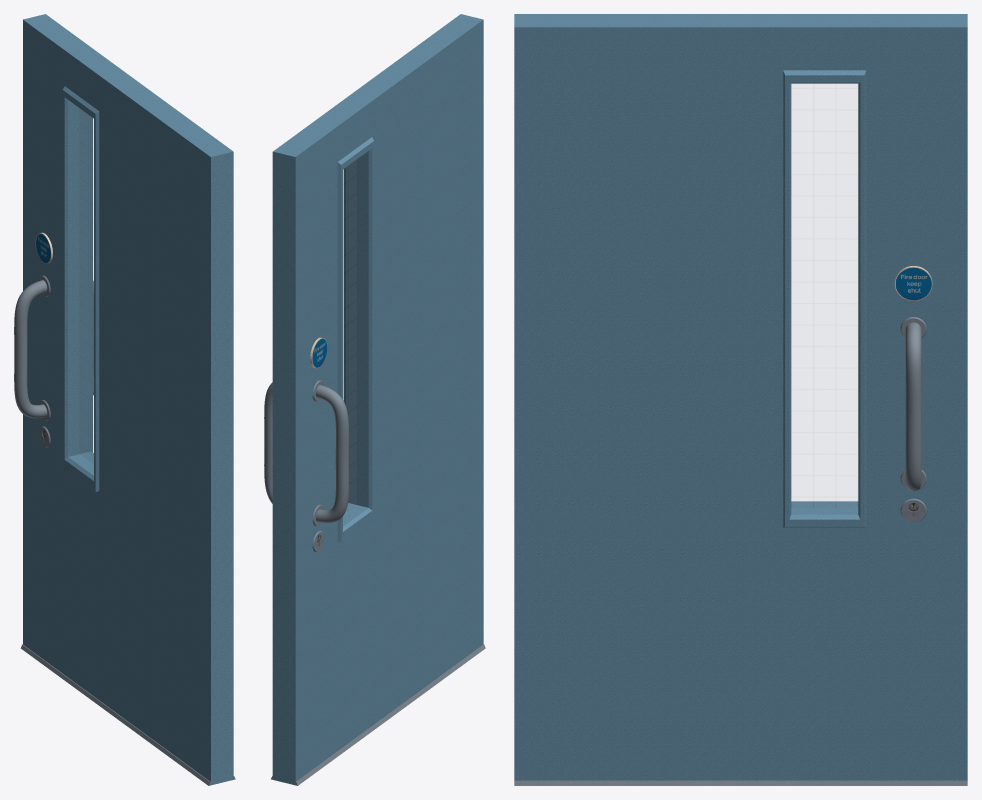
Rendered from Commerical Door.fbx.
3 views of the same model, side by side, from view 1: azimuth 30°, elevation 25°; view 2: azimuth 150°, elevation 25°; view 3: azimuth 270°, elevation 25° (orthographic). The views are drawn at different scales.
Visible parts, largest first — view 1: Circle; view 2: Circle; view 3: Circle.
Part boxes in pixels (x1,y1,x2,y2): Circle: [14, 14, 235, 785]; Circle: [264, 14, 485, 785]; Circle: [514, 14, 967, 785].
Bounding box in the file's own units: 200 × 51.07 × 369.
